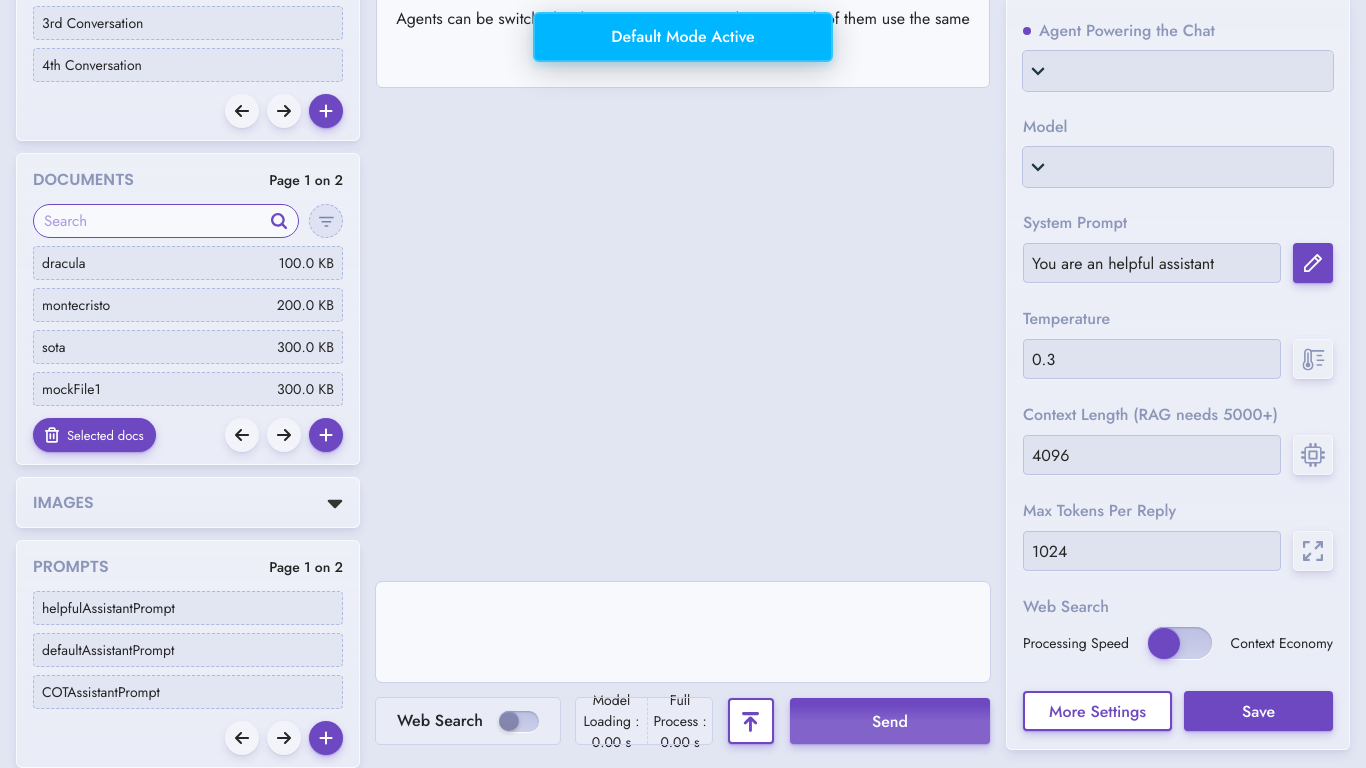
Test: Given I am on the Chat page › Can open a modal to save a new prompt
The width and height of the screenshot is (1366, 768).
(page scrolled)
Check: the list item "helpfulAssistantPrompt" is shown, box left=33, top=591, right=343, bottom=625
Click the button titled "new prompt" at point(326, 738), box left=309, top=721, right=343, bottom=755
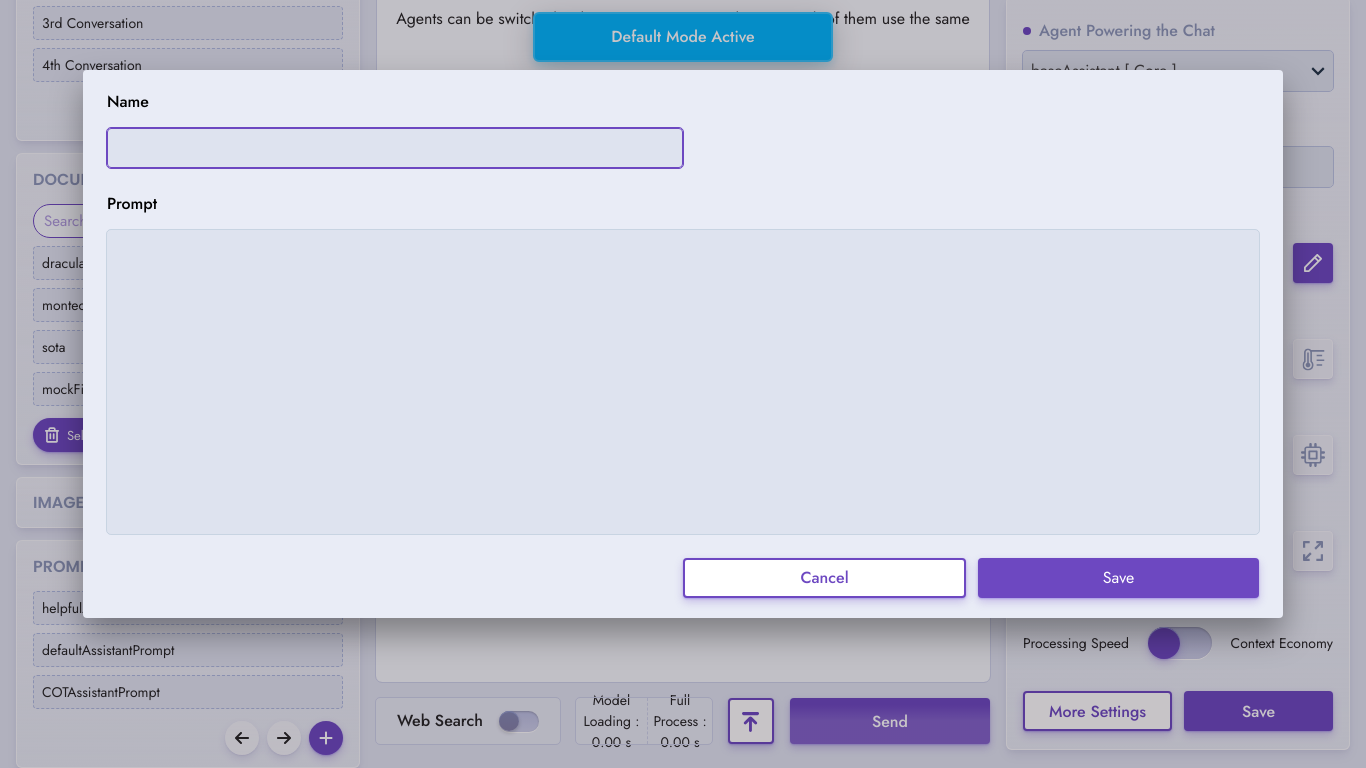
Check: the dialog with test id "modal" is shown
